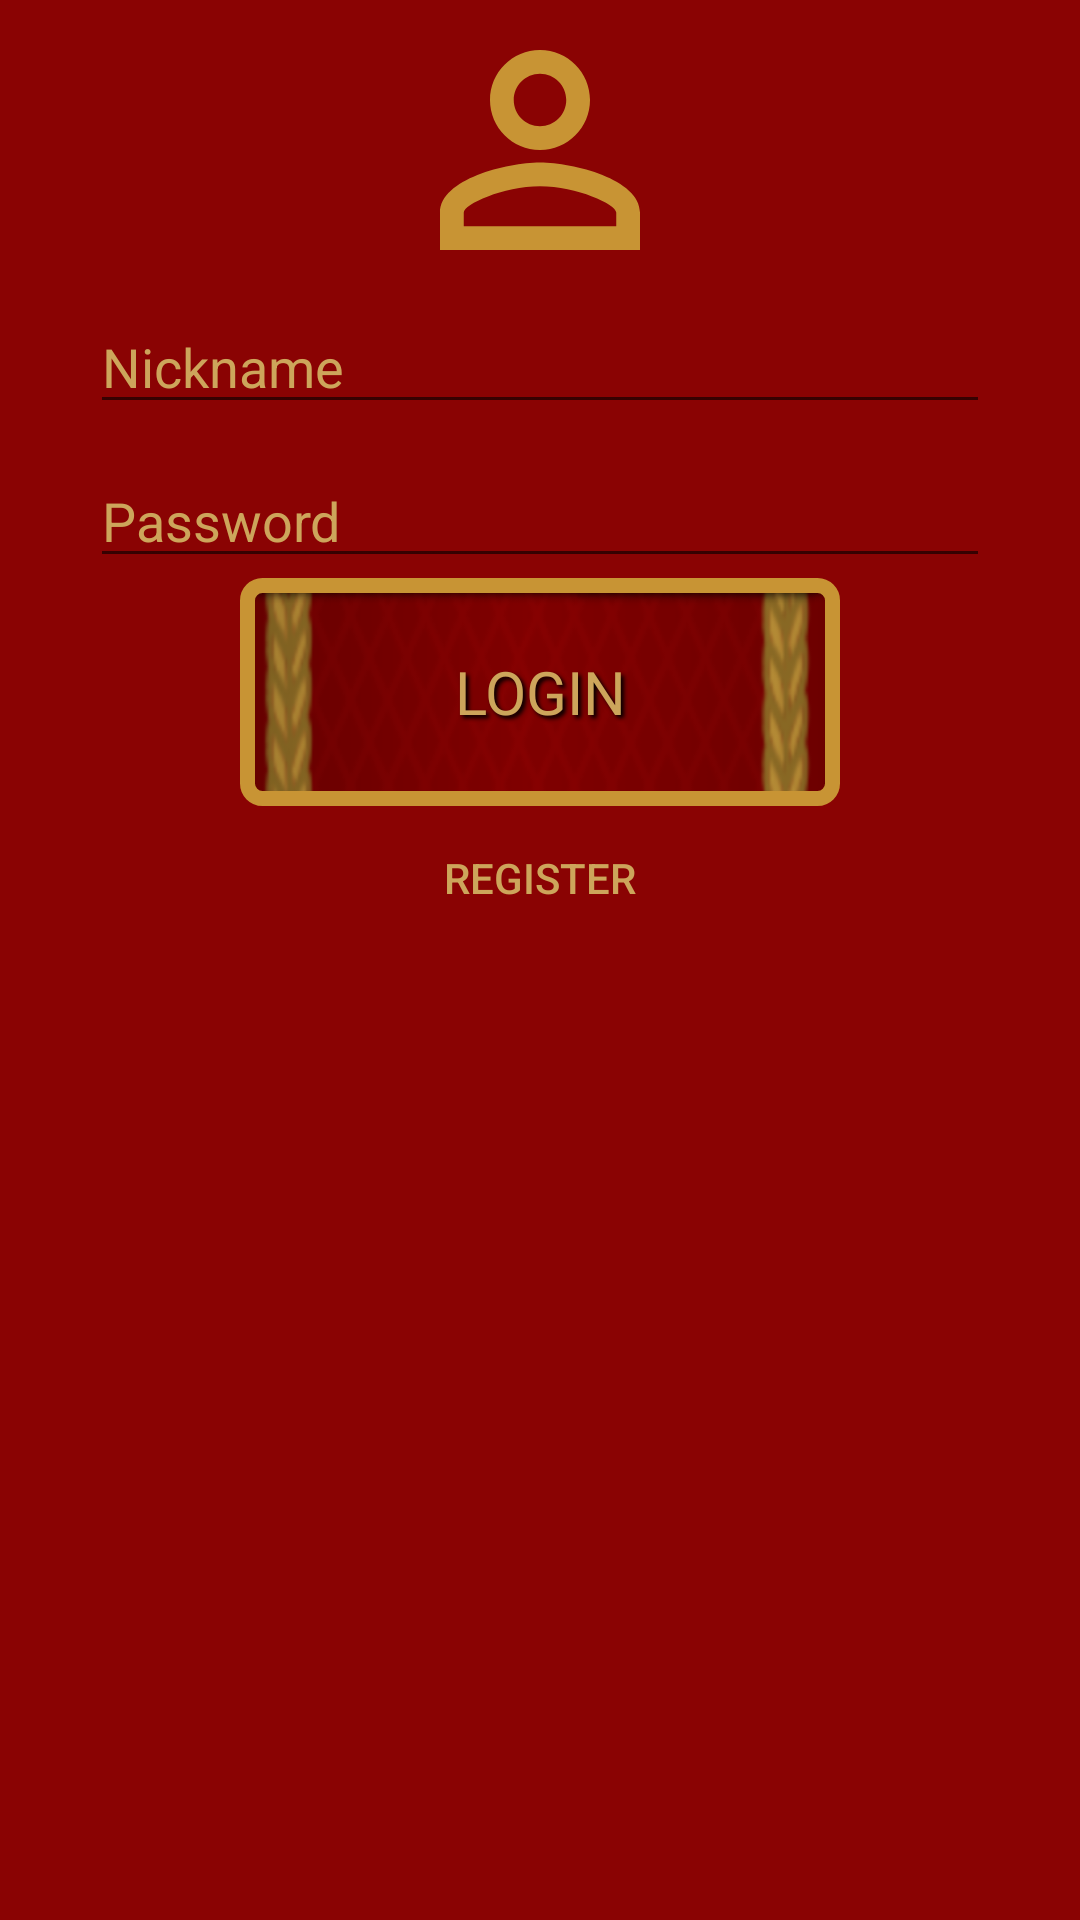

Icons on this 1080px x 1920px Android screen, each with the point to tap as [x,y]:
person: [540,150]
